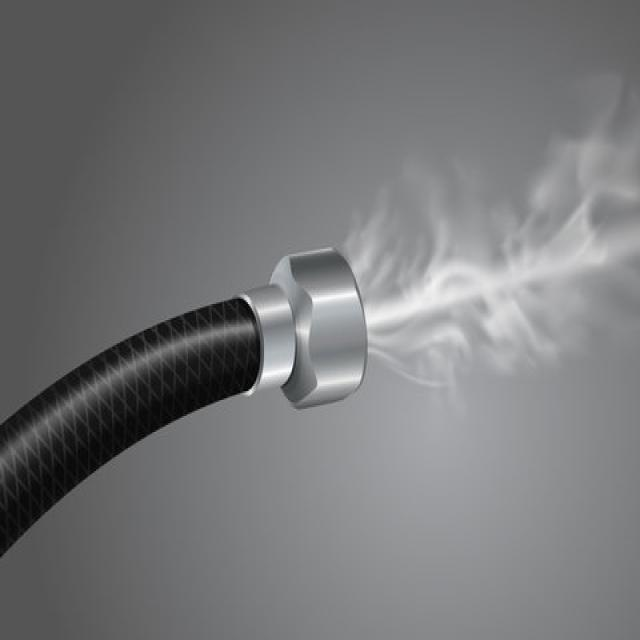corrosion: (205, 133, 463, 406)
